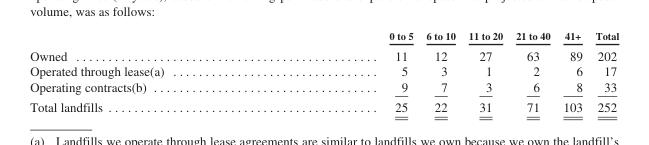table: (29, 29, 618, 114)
table column: (29, 29, 276, 114), (276, 29, 419, 114), (508, 29, 556, 114), (461, 29, 508, 114), (419, 29, 461, 114), (556, 29, 588, 114), (588, 29, 618, 114)
table column header: (29, 29, 618, 44)
table row: (29, 44, 618, 63), (29, 78, 618, 96), (29, 96, 618, 114), (29, 29, 618, 44), (29, 63, 618, 78)
